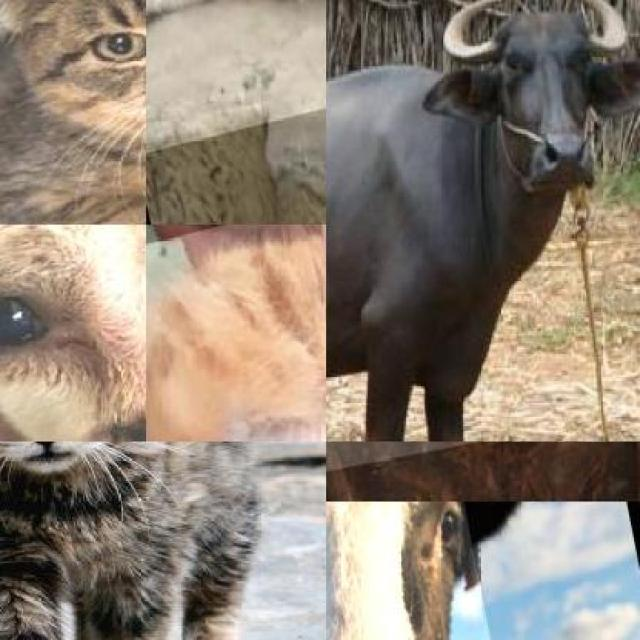buffalo: (326, 0, 583, 442), (326, 442, 640, 484)
cat: (0, 441, 269, 640), (146, 224, 326, 442), (0, 0, 146, 225)
cow: (326, 501, 566, 640)
dog: (0, 224, 146, 442), (146, 0, 326, 155)
injured: (28, 283, 146, 442)
